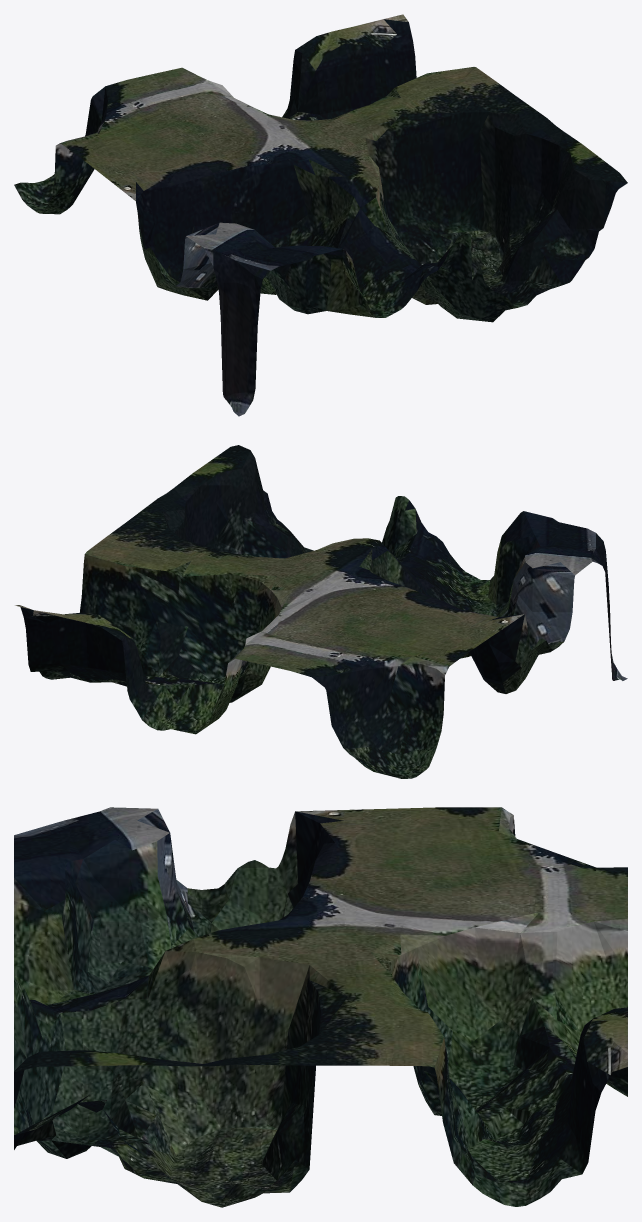
The model's file is map_15_8178_13789.dae.
The picture shows the model from 3 angles, top to bottom: view 1: azimuth 30°, elevation 25°; view 2: azimuth 150°, elevation 25°; view 3: azimuth 270°, elevation 25°; orthographic projection. The views are drawn at different scales.
Visible parts, largest first — view 1: Ter0; view 2: Ter0; view 3: Ter0.
Part boxes in pixels (x1,y1,x2,y2): Ter0: (14, 14, 627, 416); Ter0: (15, 445, 627, 778); Ter0: (14, 807, 627, 1207).
Size of the model in its own units: 63.88 by 63.88 by 22.76.
Materials: 4 (4 with a texture image).
